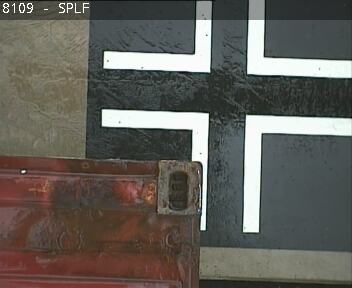groundmarker_1: (101, 108, 352, 233), (103, 1, 352, 77)
